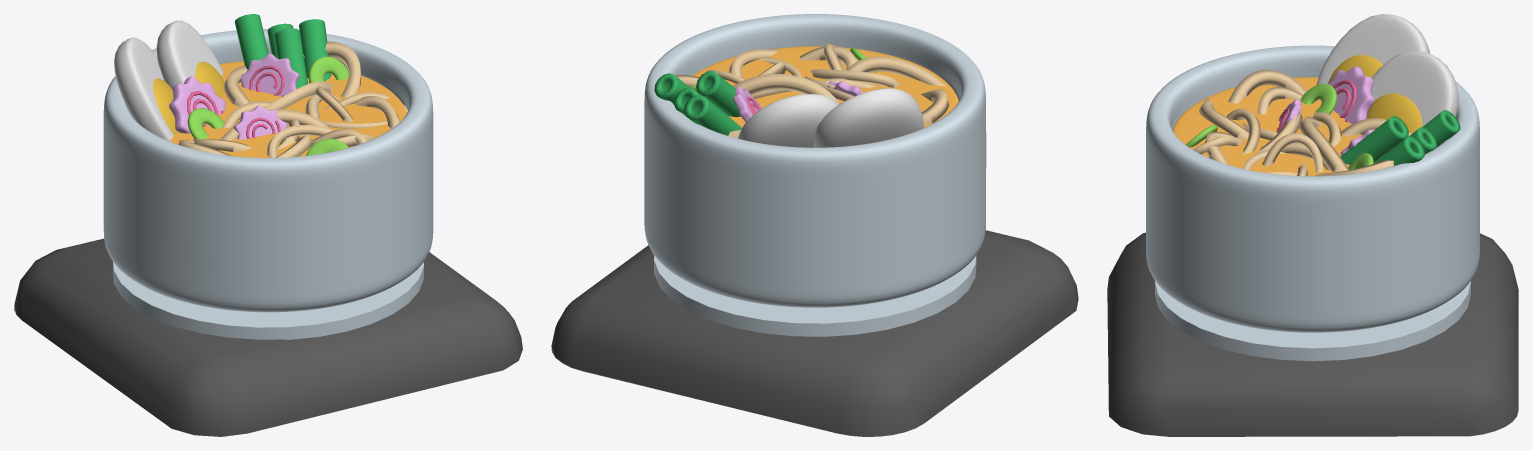
Rendered from ramen.glb.
3 views of the same model, side by side, from view 1: azimuth 30°, elevation 25°; view 2: azimuth 150°, elevation 25°; view 3: azimuth 270°, elevation 25° (orthographic). The views are drawn at different scales.
Parts seen in each view (by area): view 1: pot, toppings, noodles, soup; view 2: pot, toppings, noodles, soup; view 3: pot, toppings, noodles, soup.
Boxes of the visible parts, <box> form: pot: <box>14,29,522,436</box>; toppings: <box>114,14,349,155</box>; noodles: <box>179,41,407,157</box>; soup: <box>169,61,406,157</box>; pot: <box>551,14,1078,436</box>; toppings: <box>654,47,923,147</box>; noodles: <box>675,43,948,138</box>; soup: <box>692,46,958,127</box>; pot: <box>1107,45,1518,436</box>; toppings: <box>1186,14,1460,169</box>; noodles: <box>1193,70,1411,176</box>; soup: <box>1172,77,1391,176</box>.
Bounding box in the file's own units: 2.48 × 1.89 × 2.48.
